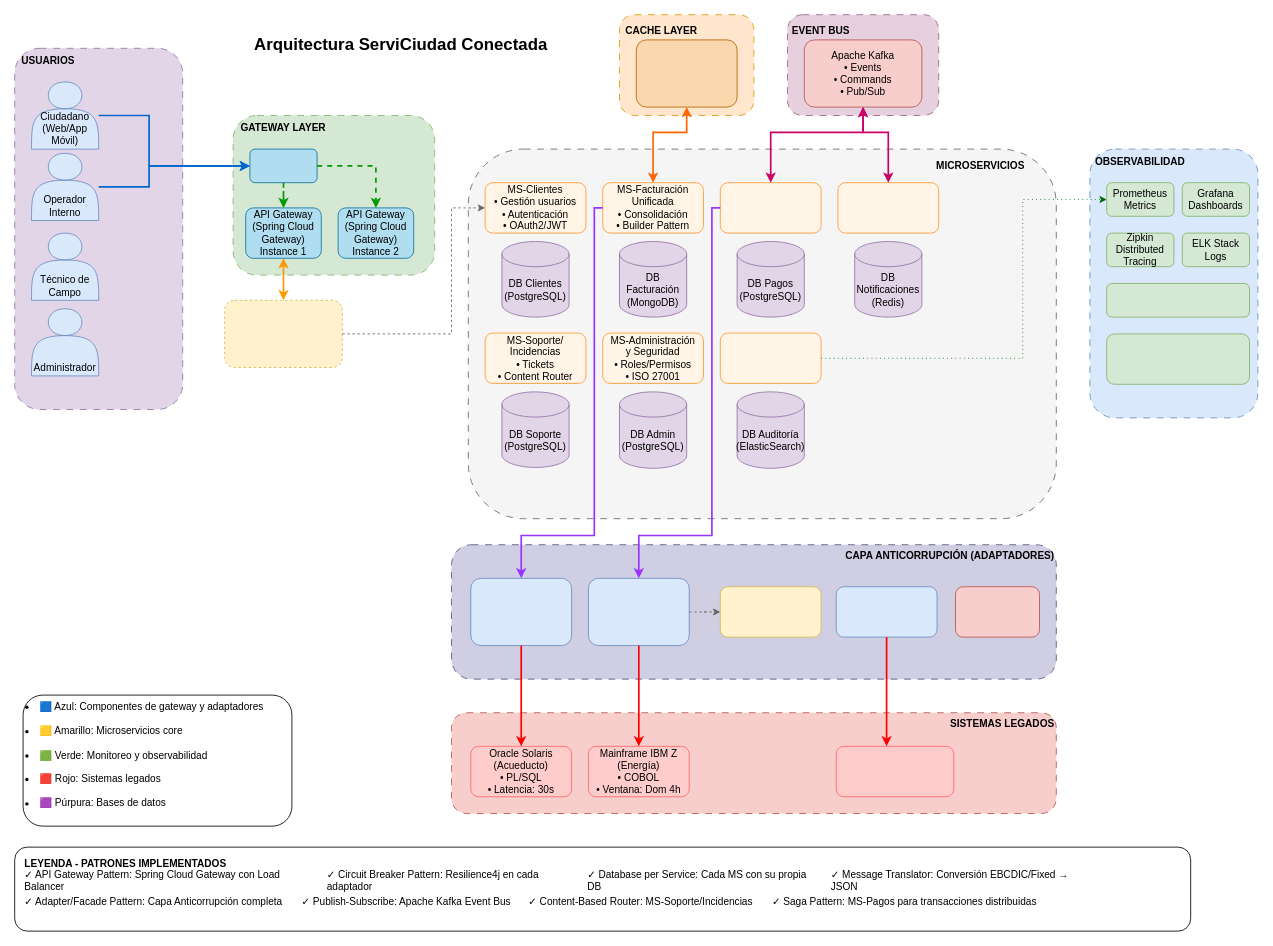
Image size: 1273x946. Some labels were removed from this diagram. The centre of each missing label's shape, as x and y in pixels:
Adaptador Mainframe IBM Z • Circuit Breaker • Terminal 3270 • Cache 24h: point 638,612
Adaptador Oracle • Circuit Breaker • Retry Logic • Timeout: 30s: point 521,612
Adaptador Telecomunicaciones • Circuit Breaker • REST/SOAP: point 886,611
Alert Manager Notifications: point 1178,300
Health Checks • Liveness Probes • Readiness Probes: point 1178,358
Load Balancer (NGINX): point 283,165
Message Translator • EBCDIC → JSON • Fixed → JSON • XML → JSON: point 770,611
MS-Monitoreo y Auditoría • Prometheus • Grafana: point 770,357
MS-Notificaciones • SMS/Email/Push • Template Engine • Pub/Sub: point 888,207
MS-Pagos • Transacciones • Pasarela PSE • Saga Pattern: point 770,207
Redis Cluster • Session Cache • Data Cache • TTL: 24h: point 686,73
Resilience4j • Fallback • Rate Limiter • Bulkhead: point 997,611
Service Mesh (Istio) • Circuit Breaker • Load Balancing • Observability: point 283,333
Sistemas Modernos (Telecomunicaciones) • REST APIs • SOAP Services: point 894,771
